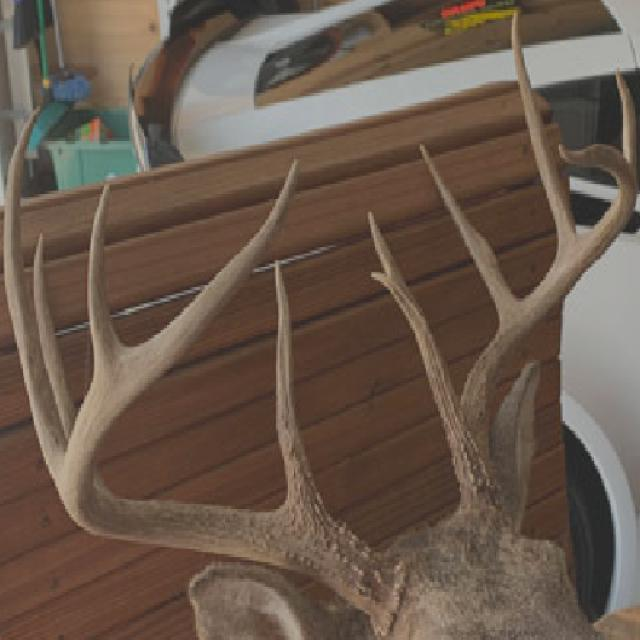L-F: (447, 143, 639, 517)
L-G1: (366, 205, 458, 438)
L-G2: (418, 142, 521, 328)
L-G3: (510, 9, 578, 257)
L-G4: (614, 63, 638, 187)
R-F: (59, 155, 409, 638)
R-G1: (274, 252, 336, 518)
R-G2: (86, 180, 125, 375)
R-G3: (3, 103, 64, 497)
